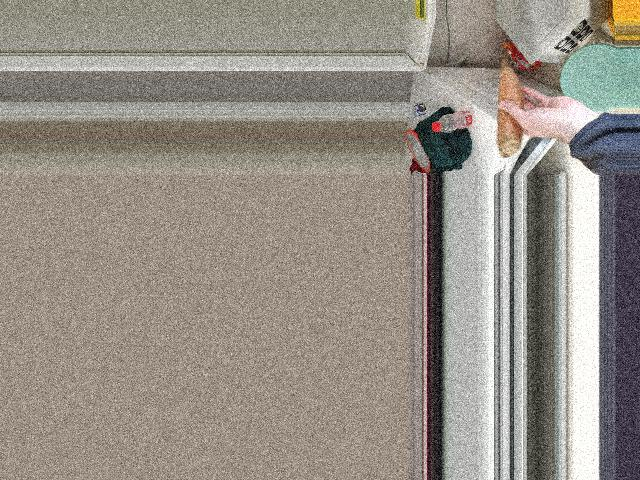sweet_potato: (498, 63, 523, 148)
